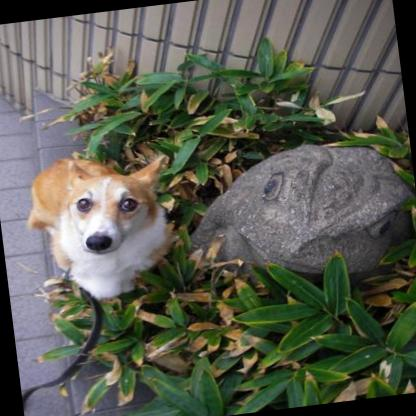Pembroke: (13, 140, 190, 309)
